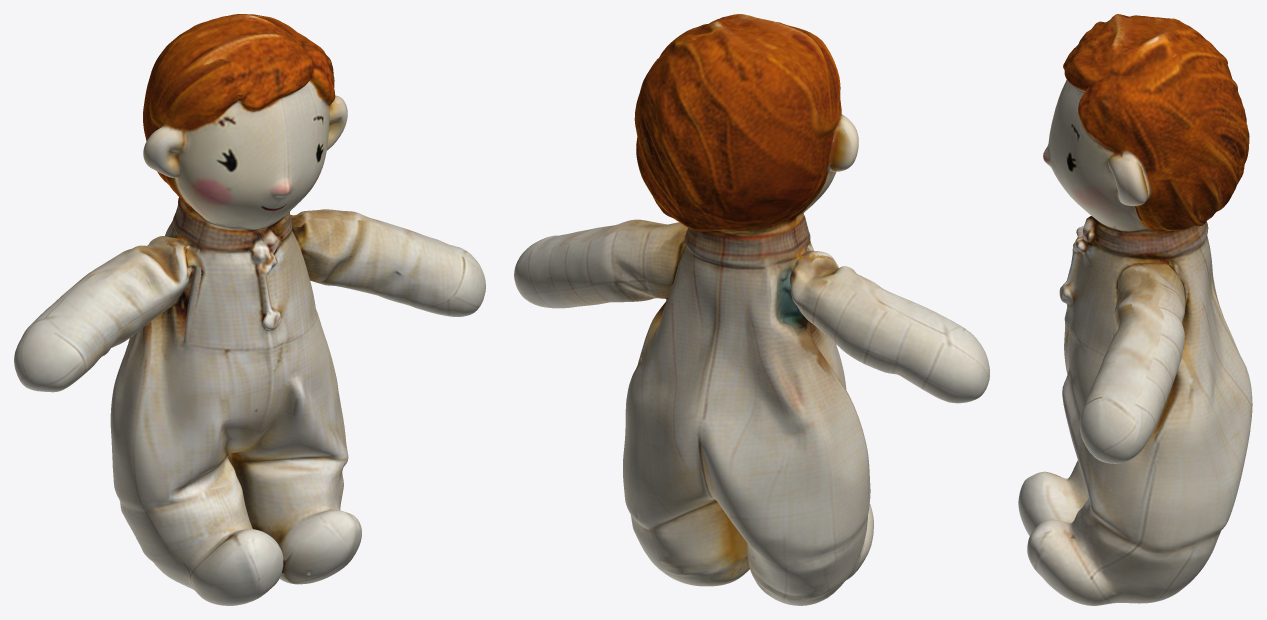
Rendered from goodcase0303_29.glb.
The picture shows the model from 3 angles, left to right: view 1: azimuth 30°, elevation 25°; view 2: azimuth 150°, elevation 25°; view 3: azimuth 270°, elevation 25°; orthographic projection. The views are drawn at different scales.
Parts seen in each view (by area): view 1: object.001; view 2: object.001; view 3: object.001.
Part boxes in pixels (x1,y1,x2,y2): object.001: (14,14,485,605); object.001: (514,14,989,605); object.001: (1018,14,1252,605).
Size of the model in its own units: 0.9702 by 1.11 by 0.4271.
Materials: 1 (1 with a texture image).
